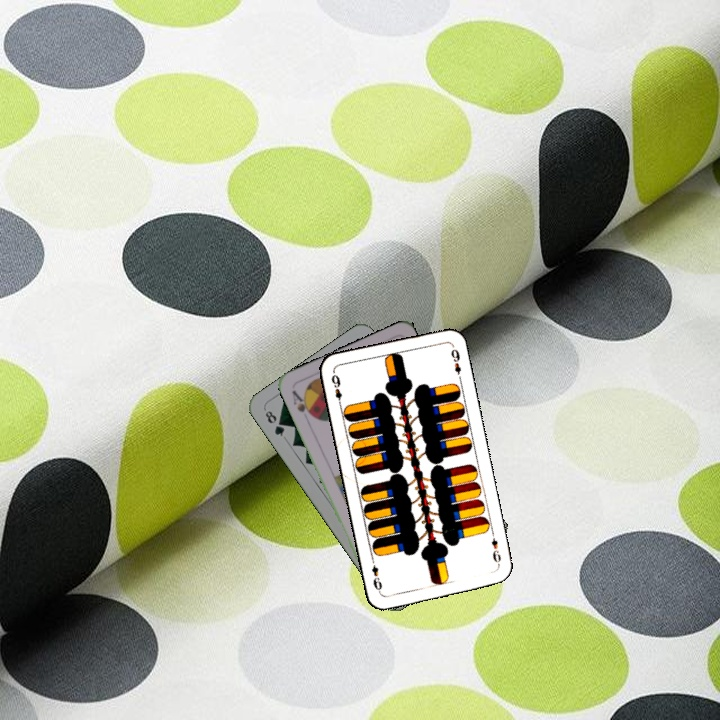E9: (327, 368, 345, 409), (487, 528, 504, 568)
G8: (261, 406, 287, 439)
SA: (288, 386, 316, 420)
